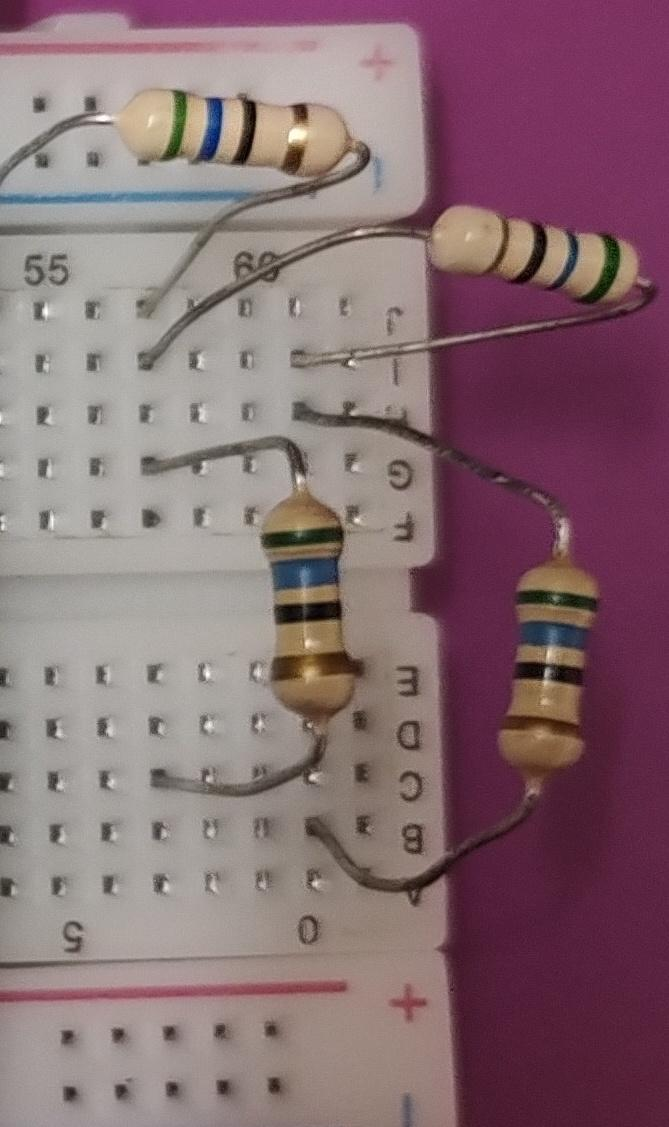resistor: (101, 63, 380, 204), (243, 461, 378, 732), (488, 551, 622, 807), (418, 191, 648, 321)
